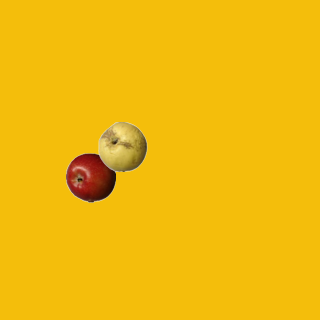Apple Braeburn: (65, 152, 115, 202)
Apple Golden 1: (97, 121, 147, 171)
